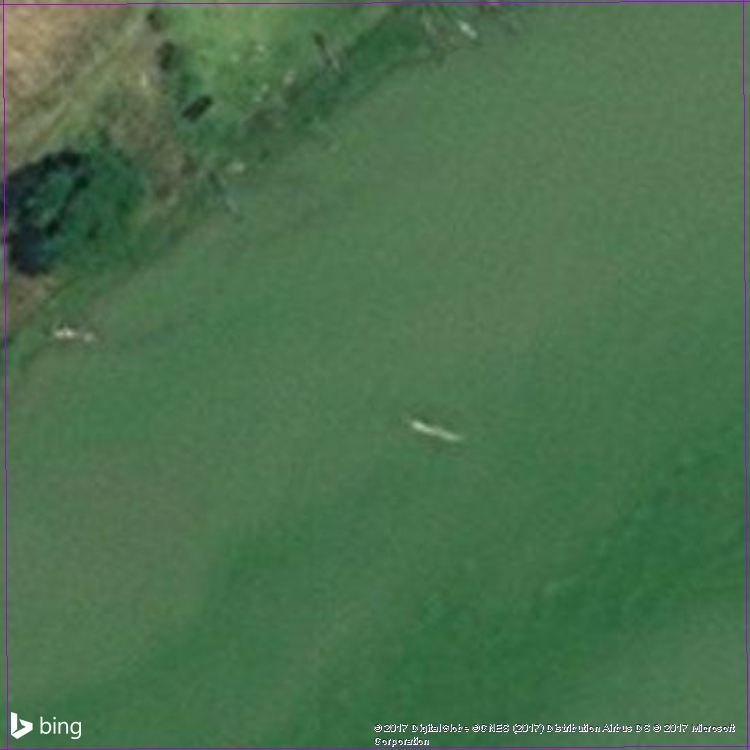boat: (198, 146, 256, 232), (391, 405, 479, 460), (398, 1, 455, 70), (306, 16, 354, 84), (427, 1, 475, 67), (36, 314, 110, 356), (433, 1, 495, 50), (474, 1, 542, 35)
